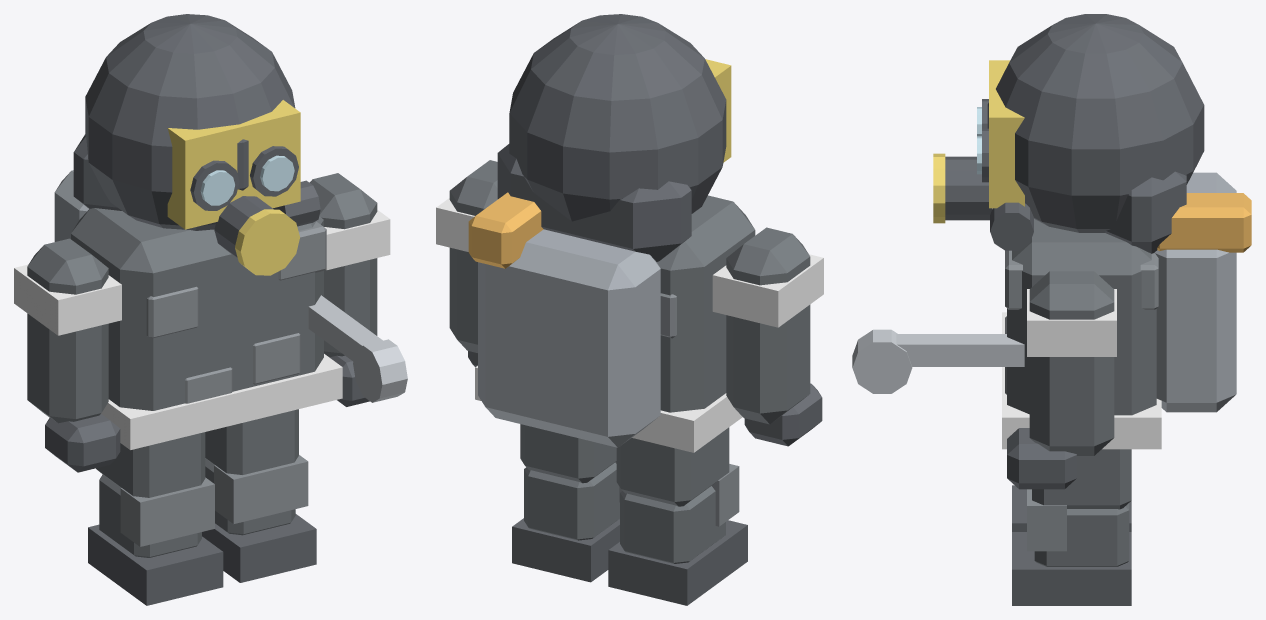
File: engineer@toxico.glb
3 views of the same model, side by side, from view 1: azimuth 30°, elevation 25°; view 2: azimuth 150°, elevation 25°; view 3: azimuth 270°, elevation 25° (orthographic). The views are drawn at different scales.
Parts seen in each view (by area): view 1: main, shinl, shinr, legl, legr; view 2: main, shinl, shinr, legl, legr; view 3: main, shinr, legr, shinl.
Part boxes in pixels (box(x1,y1,x2,y2)): main: box(14, 14, 407, 472); shinl: box(88, 474, 223, 605); shinr: box(202, 455, 316, 582); legl: box(96, 432, 205, 497); legr: box(205, 409, 298, 474); main: box(436, 14, 823, 452); shinl: box(608, 464, 747, 605); shinr: box(512, 461, 622, 582); legl: box(616, 427, 729, 506); legr: box(520, 424, 616, 483); main: box(852, 14, 1251, 489); shinr: box(1012, 489, 1131, 605); legr: box(1032, 449, 1131, 509); shinl: box(1012, 485, 1131, 531).
Size of the model in its own units: 0.391 by 0.5975 by 0.4.
